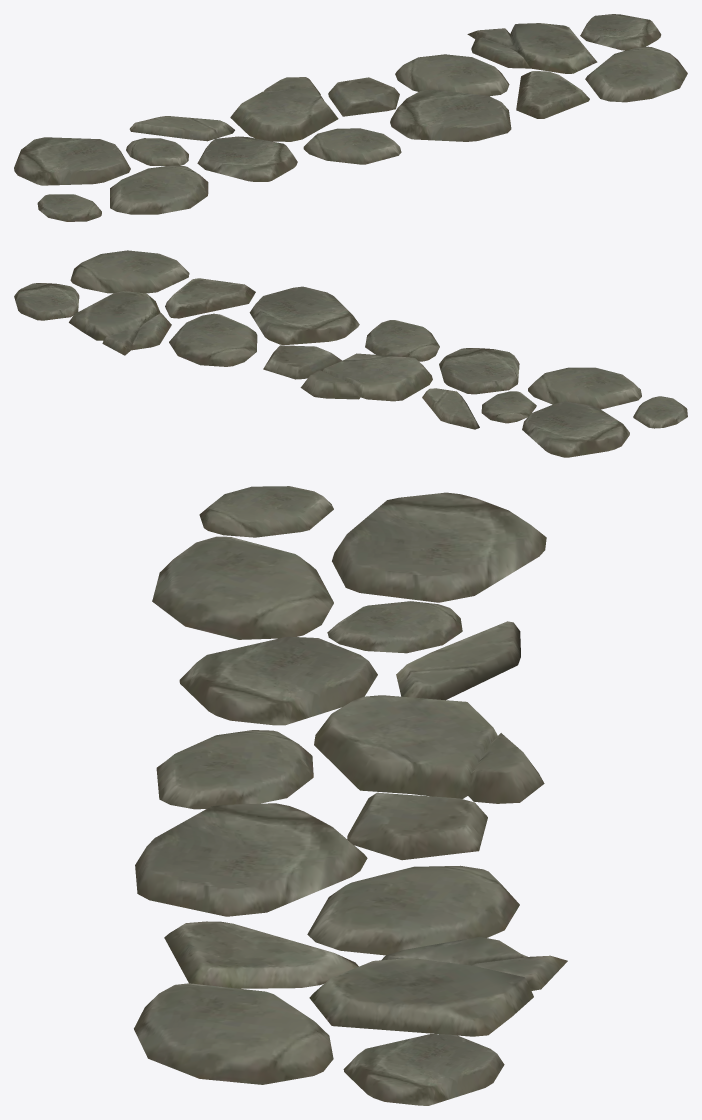
The picture shows the model from 3 angles, top to bottom: view 1: azimuth 30°, elevation 25°; view 2: azimuth 150°, elevation 25°; view 3: azimuth 270°, elevation 25°; orthographic projection. The views are drawn at different scales.
Bounding box in the file's own units: 11.94 × 0.2566 × 3.57.
1 material, 1 textured.
